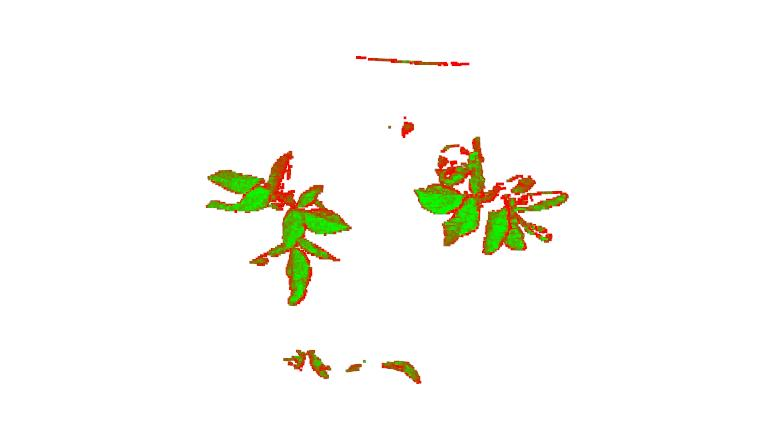mungbean: (206, 150, 356, 309), (415, 130, 573, 259)
